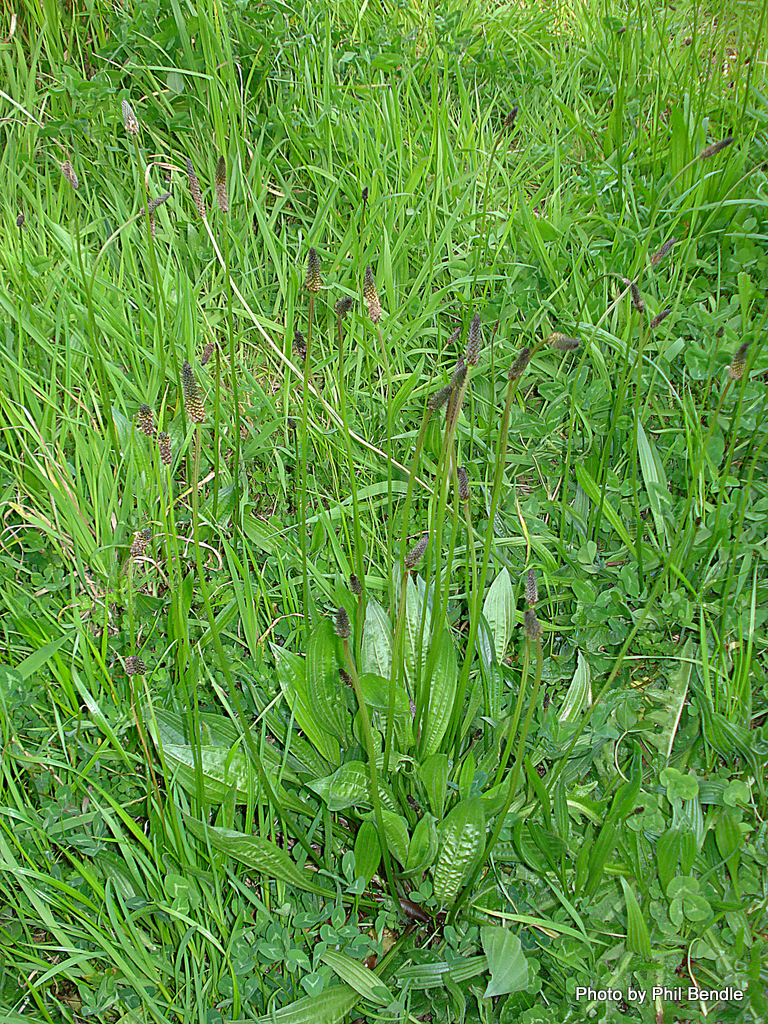buckhorn plantain: (79, 242, 677, 916)
